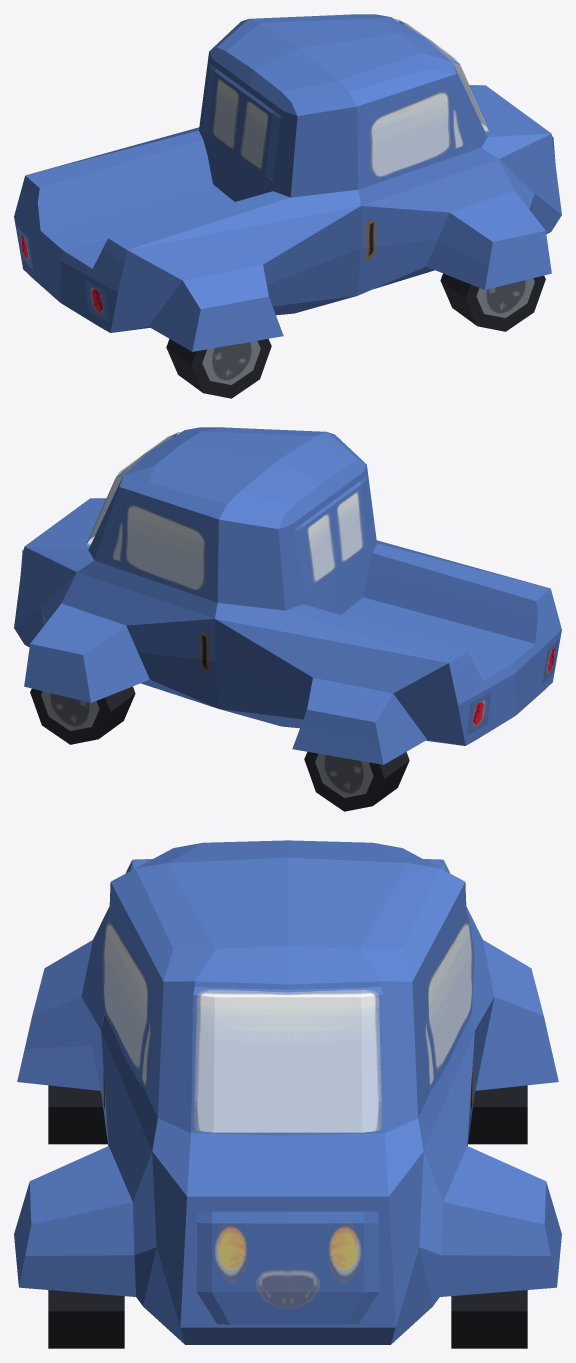
The model's file is voiture2.fbx.
3 views of the same model, one above another, from view 1: azimuth 30°, elevation 25°; view 2: azimuth 150°, elevation 25°; view 3: azimuth 270°, elevation 25° (orthographic). The views are drawn at different scales.
Parts seen in each view (by area): view 1: Cube; view 2: Cube; view 3: Cube.
Part boxes in pixels (bbox=[...]): Cube: bbox=[14, 14, 561, 398]; Cube: bbox=[14, 427, 561, 811]; Cube: bbox=[14, 840, 561, 1348].
Size of the model in its own units: 128 by 84.09 by 66.58.
